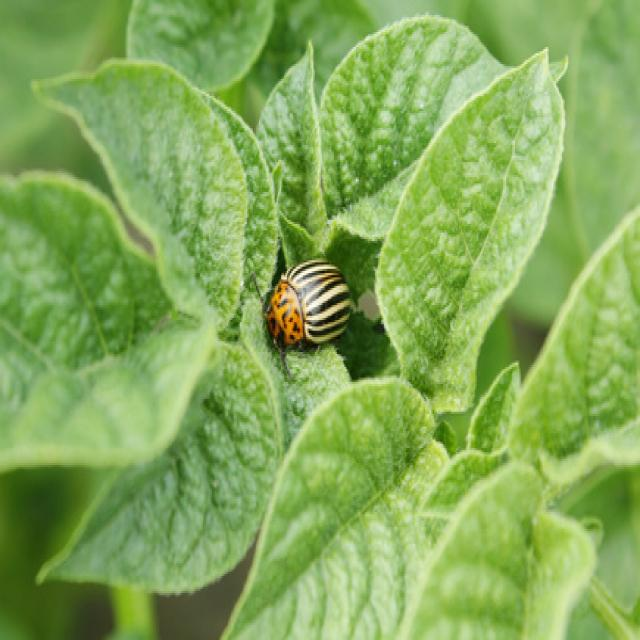ShuCaiHuaBanChong-Grown-: (262, 248, 358, 364)
